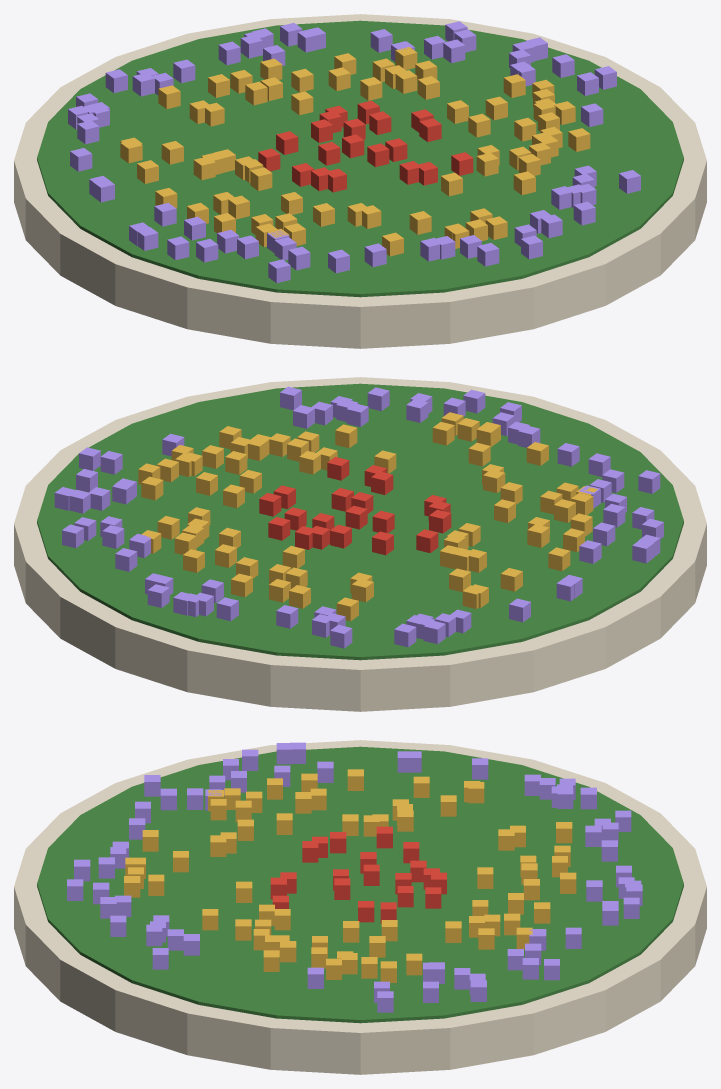
The model's file is flower_bed.glb.
The picture shows the model from 3 angles, top to bottom: view 1: azimuth 30°, elevation 25°; view 2: azimuth 150°, elevation 25°; view 3: azimuth 270°, elevation 25°; orthographic projection.
Parts seen in each view (by area): view 1: flowers; view 2: flowers; view 3: flowers.
Part boxes in pixels (box(x1,y1,x2,y2)): flowers: box(14, 14, 706, 348); flowers: box(14, 377, 706, 711); flowers: box(14, 740, 706, 1074).
Bounding box in the file's own units: 6 × 0.57 × 6.
